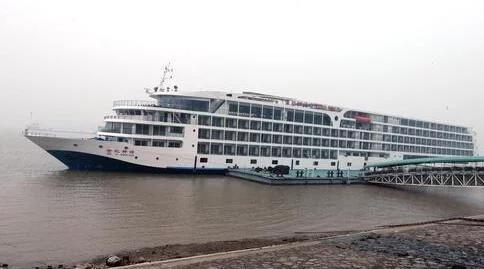youlun: (25, 81, 483, 179)
